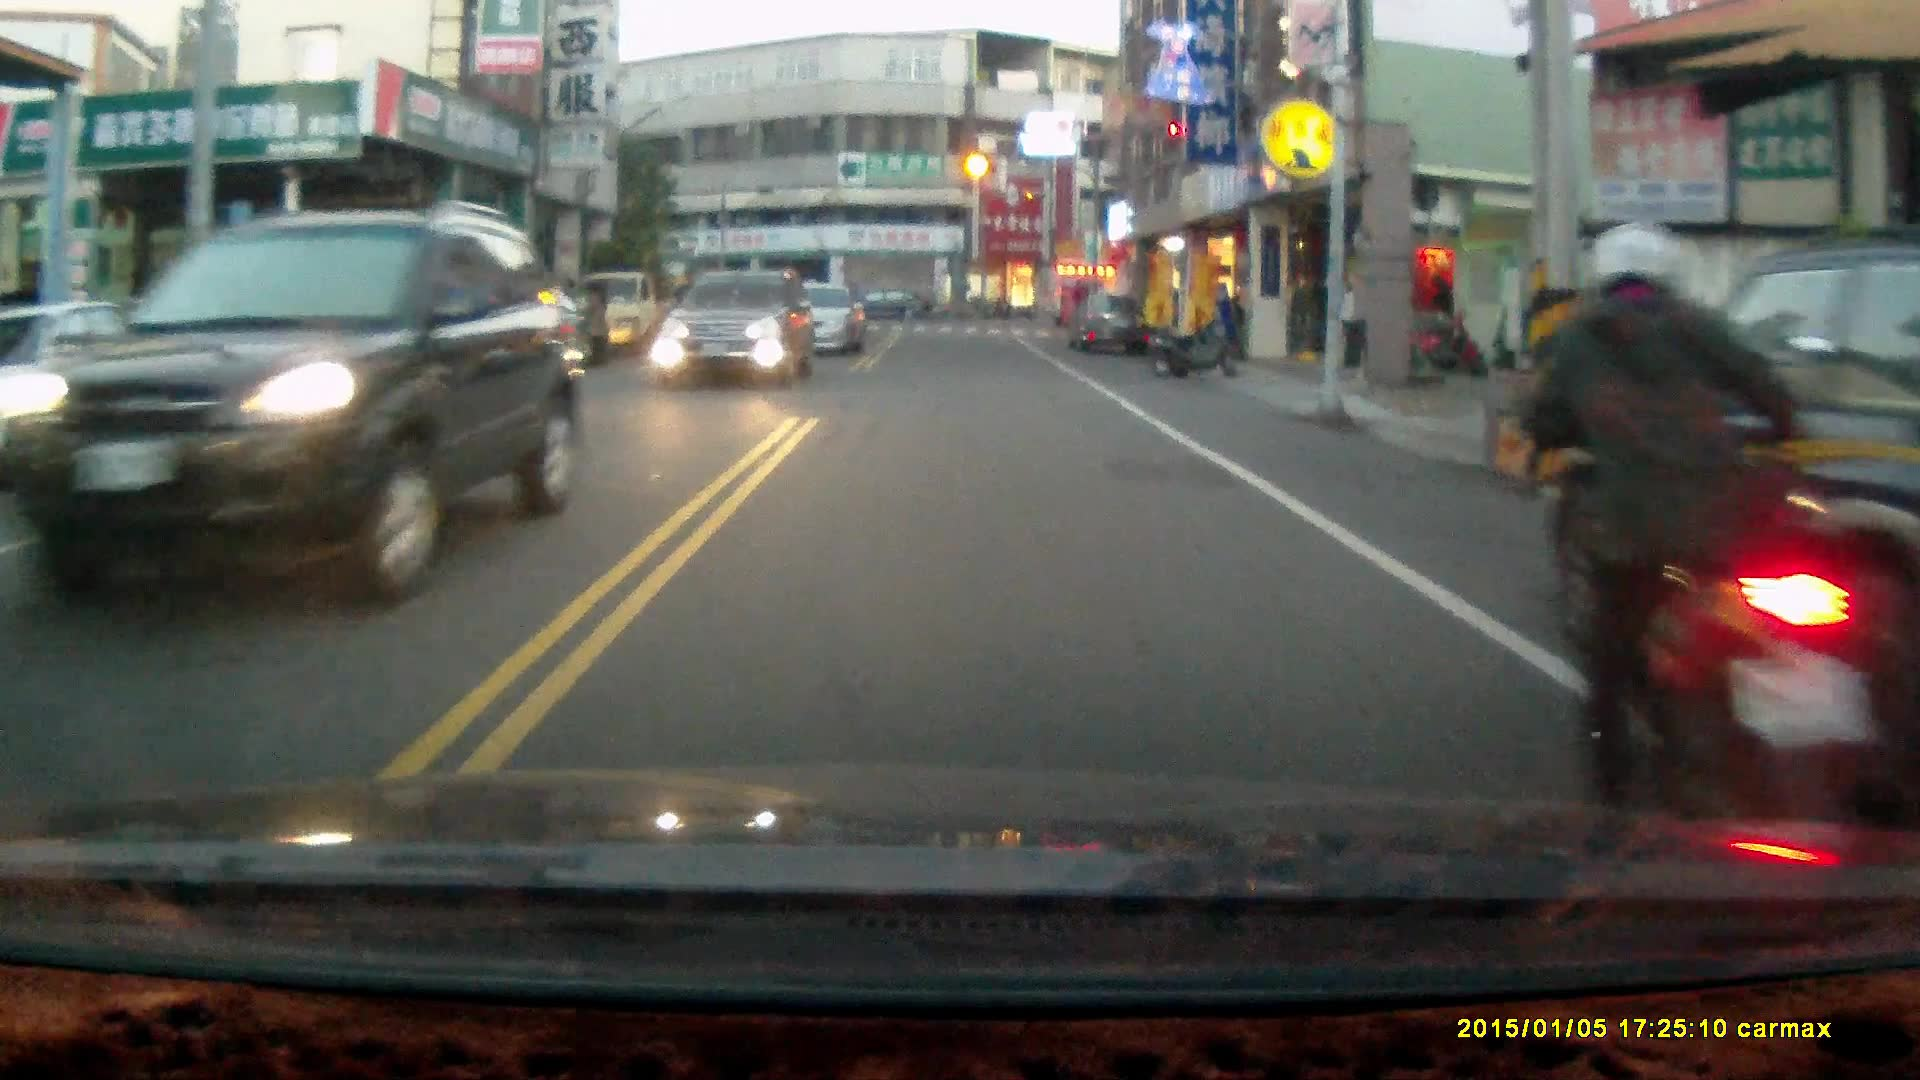pedestrian: (580, 278, 608, 368)
rider: (1527, 221, 1871, 835)
vehicle: (13, 202, 587, 626), (1570, 247, 1920, 751), (657, 268, 812, 392), (753, 281, 869, 359), (1067, 289, 1147, 357), (824, 285, 939, 326)
